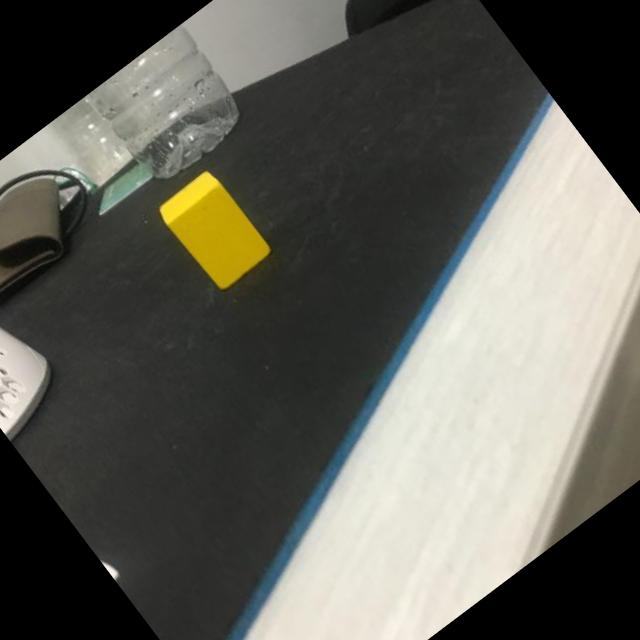yellow: (156, 168, 274, 292)
